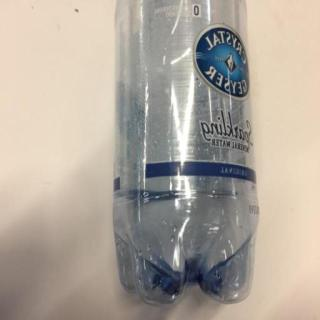Anorganik: (111, 3, 260, 306)
